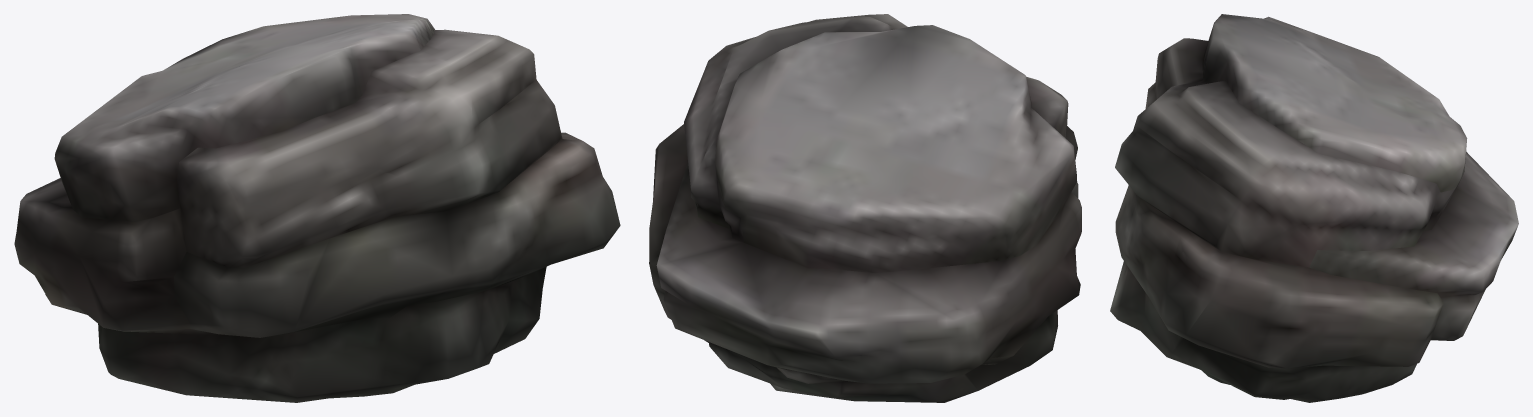
Rendered from rock-mid-2.lod0.glb.
The picture shows the model from 3 angles, left to right: view 1: azimuth 30°, elevation 25°; view 2: azimuth 150°, elevation 25°; view 3: azimuth 270°, elevation 25°; orthographic projection. The views are drawn at different scales.
Visible parts, largest first — view 1: Mid_3_MID_0; view 2: Mid_3_MID_0; view 3: Mid_3_MID_0.
Part boxes in pixels (x1,y1,x2,y2): Mid_3_MID_0: (14, 14, 620, 402); Mid_3_MID_0: (649, 14, 1081, 402); Mid_3_MID_0: (1110, 14, 1518, 402).
Size of the model in its own units: 3 by 2.21 by 2.6.
Materials: 1 (1 with a texture image).
